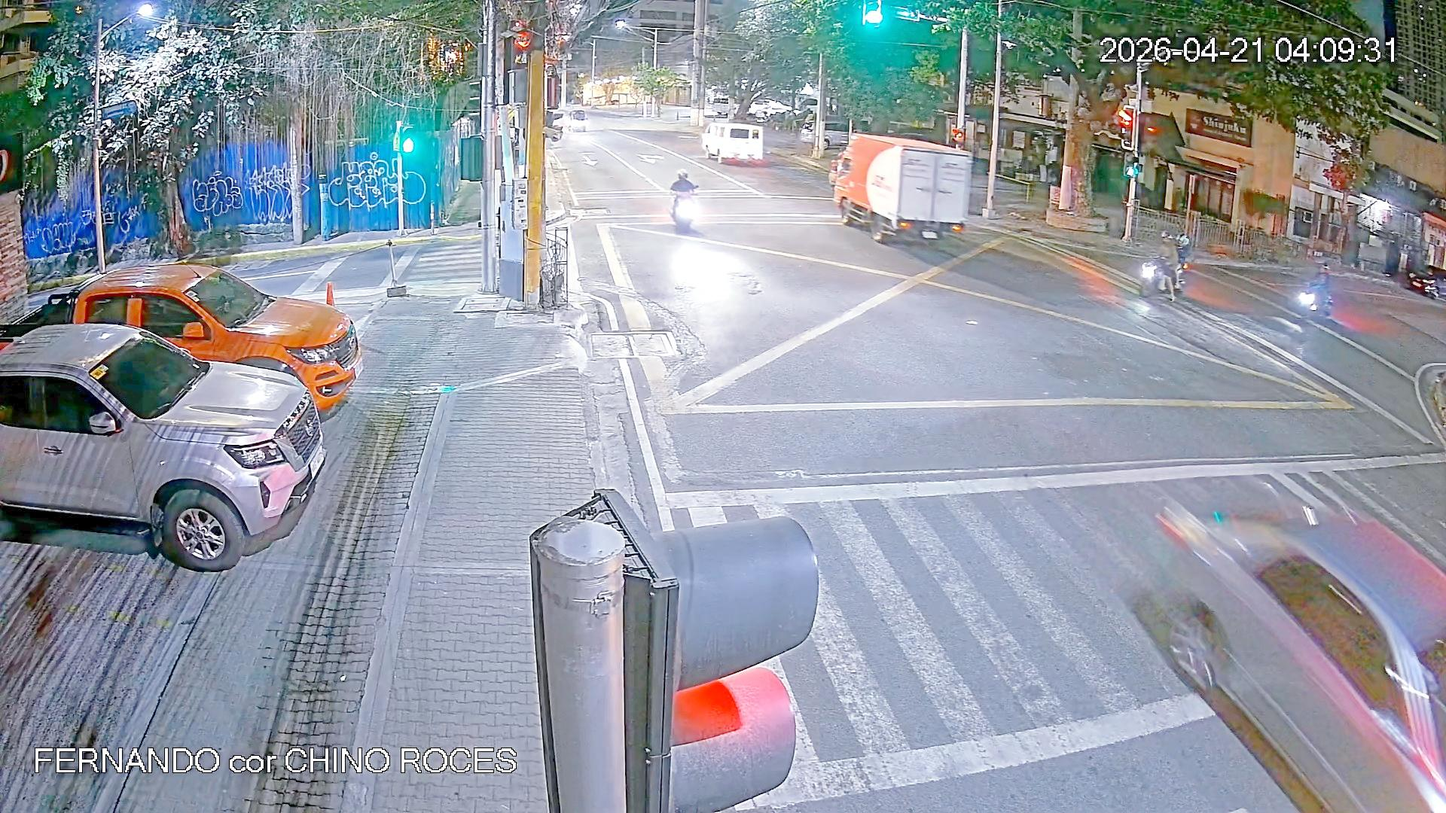Car: (1109, 449, 1446, 813), (5, 317, 343, 608), (30, 271, 378, 451), (822, 136, 986, 265), (699, 113, 770, 176)
Motor: (1118, 226, 1213, 312), (1295, 247, 1338, 341), (663, 167, 709, 251)
